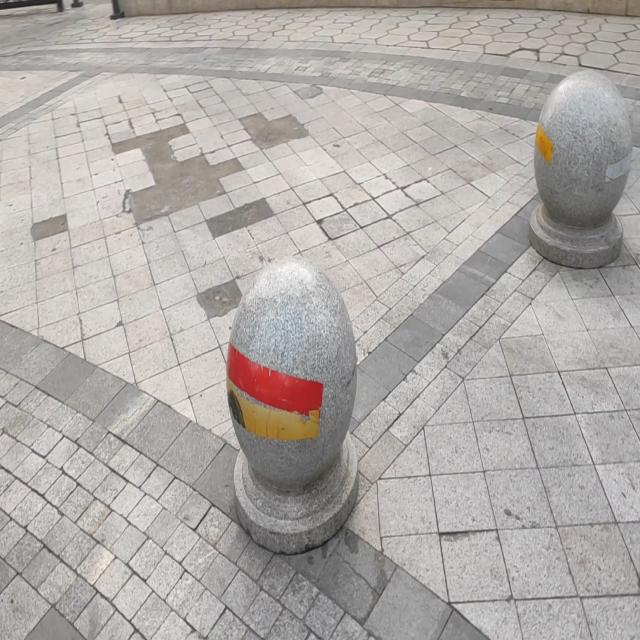spherical_roadblock: (223, 263, 357, 552), (525, 67, 633, 271)
